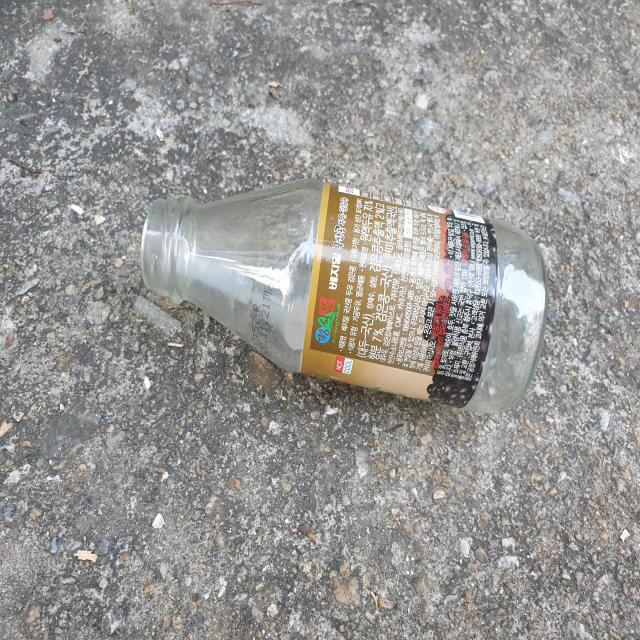glass: (141, 179, 548, 413)
